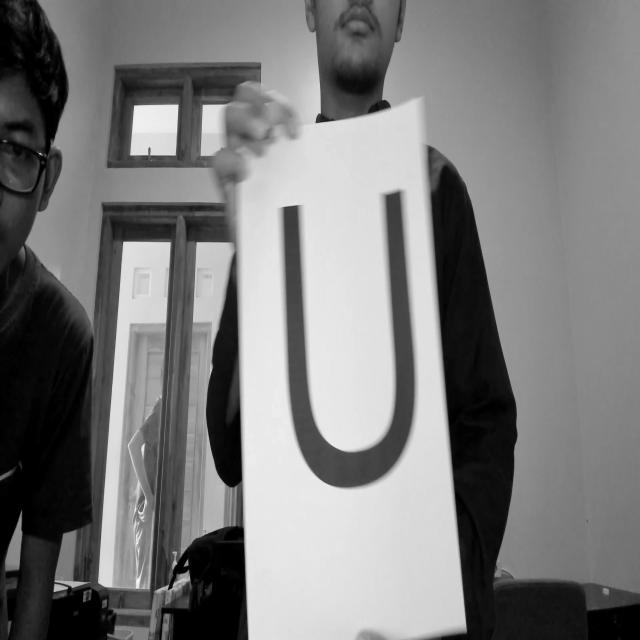u: (274, 170, 432, 499)
